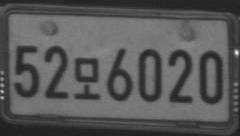0: (198, 49, 223, 104), (137, 48, 162, 101)
2: (42, 45, 69, 98), (168, 49, 193, 103)
5: (13, 45, 39, 97)
6: (106, 48, 132, 100)
모: (72, 57, 100, 100)
